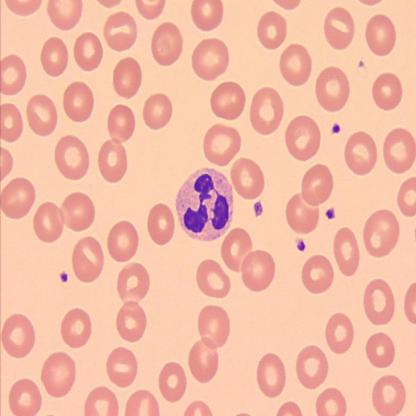Segmented neutrophil: (174, 165, 236, 244)
